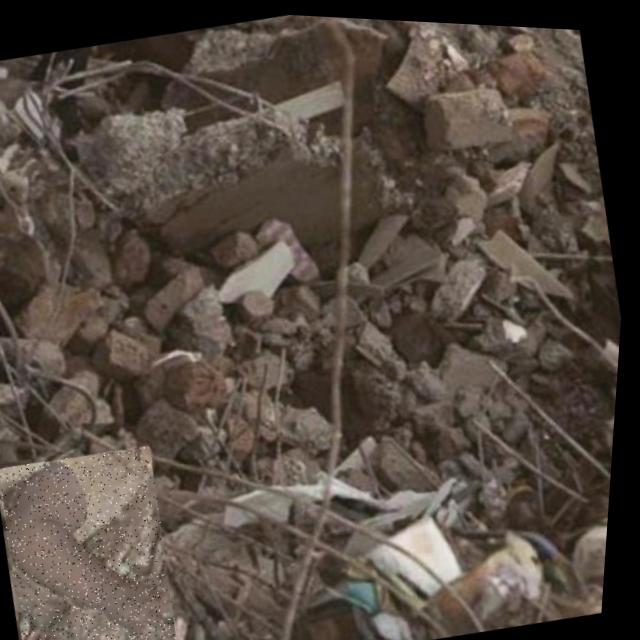Person in Rubble: (0, 436, 197, 640)
